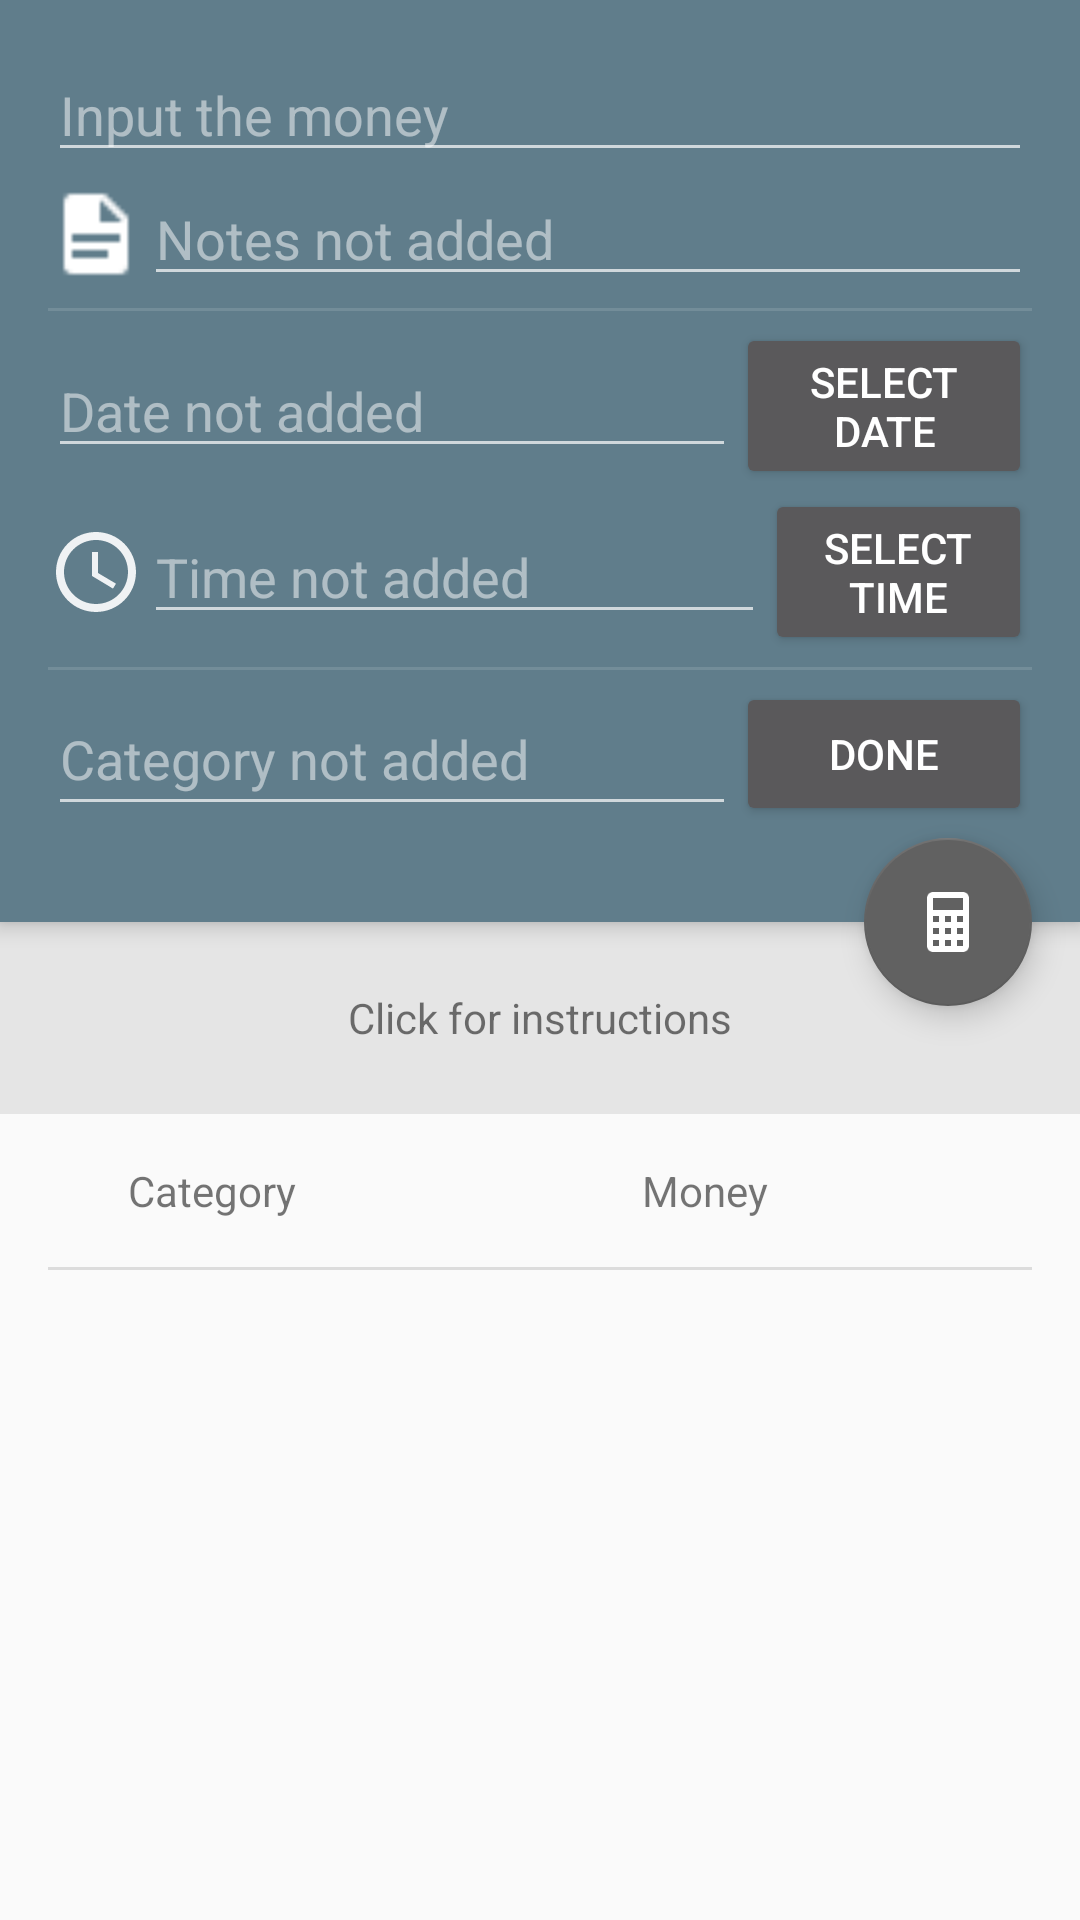

Screen size 1080x1920. Icon name, then its center in pixels as point (x, y):
calculator: point (948, 922)
